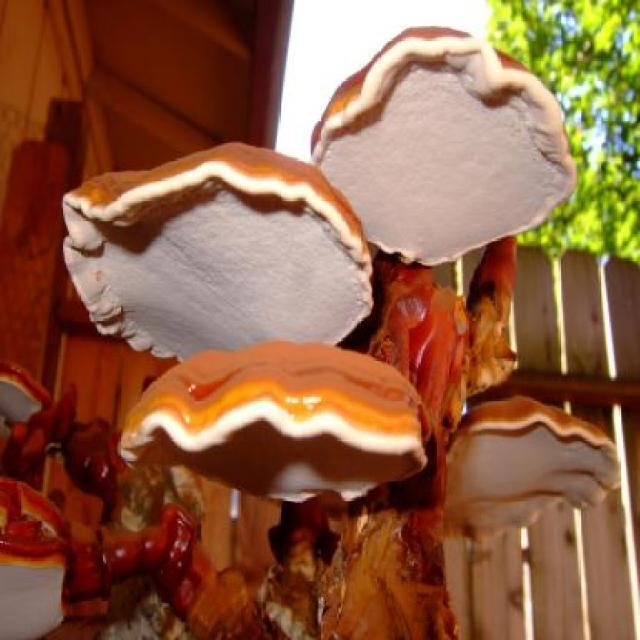Mushroom: (0, 26, 620, 640), (104, 340, 450, 548)
